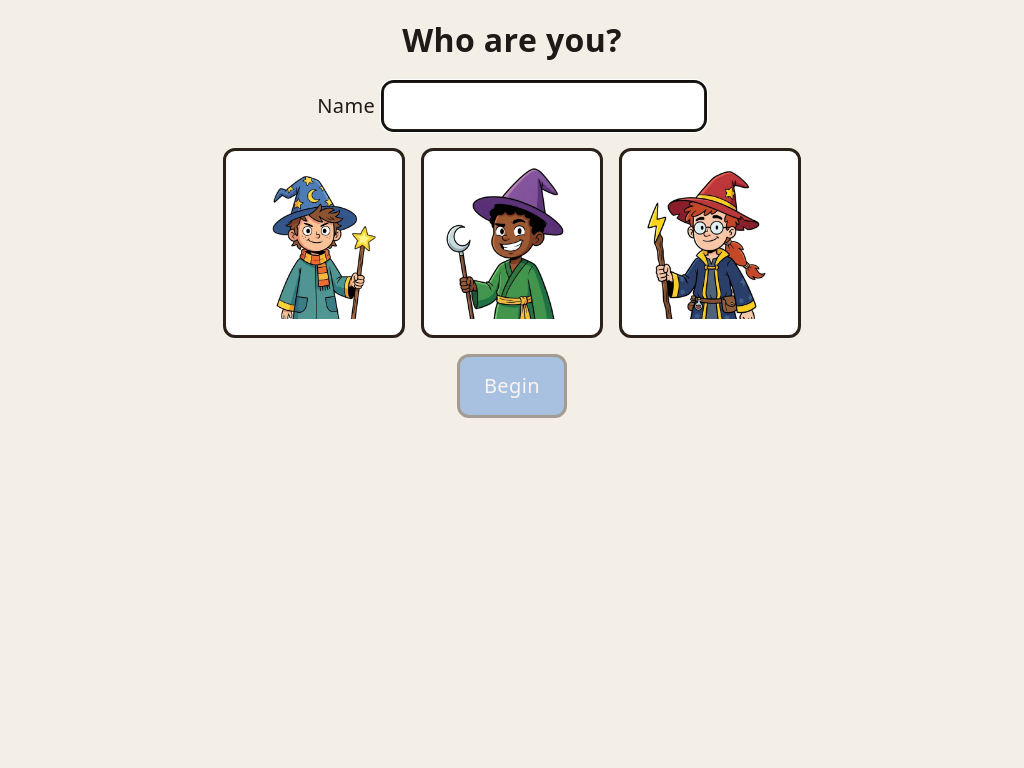
it: App › shows a quiet notice on the title when a write fails, without interrupting play (F5)
This screenshot has width=1024, height=768.
Check: the heading "Who are you?" is shown, box [402,16,622,64]
Type "Noah" into the field labelled "Name" at {"x": 544, "y": 106}, box [381,80,707,132]
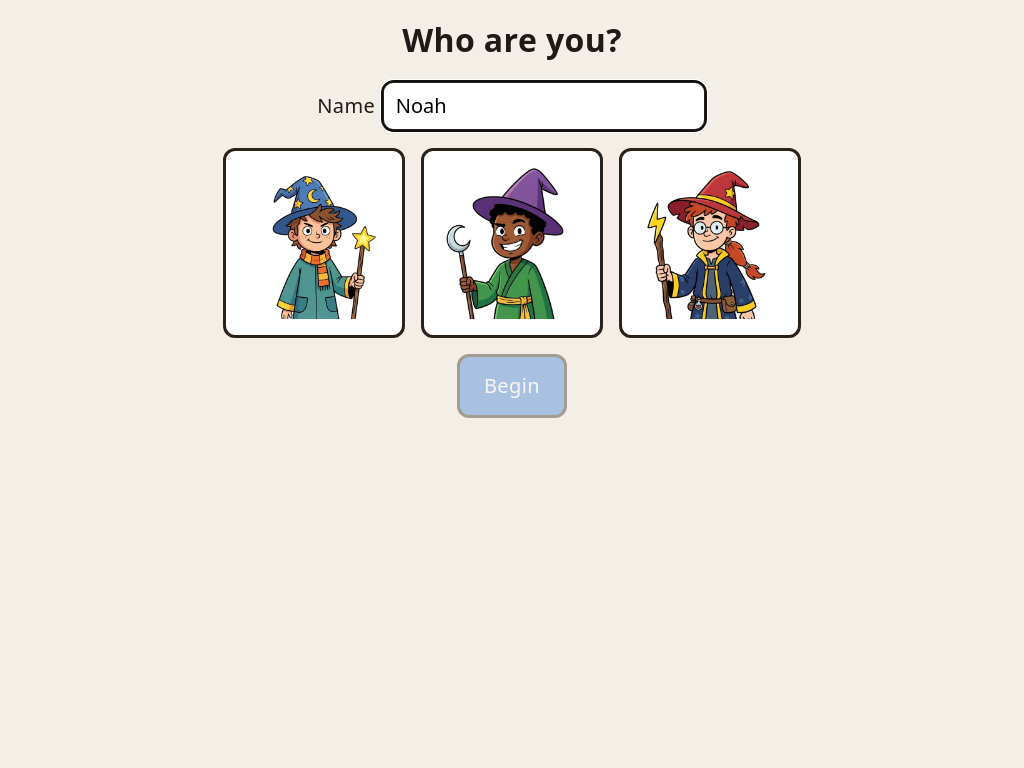
Click the radio button named "character-02" at {"x": 512, "y": 243}, box [421,148,603,338]
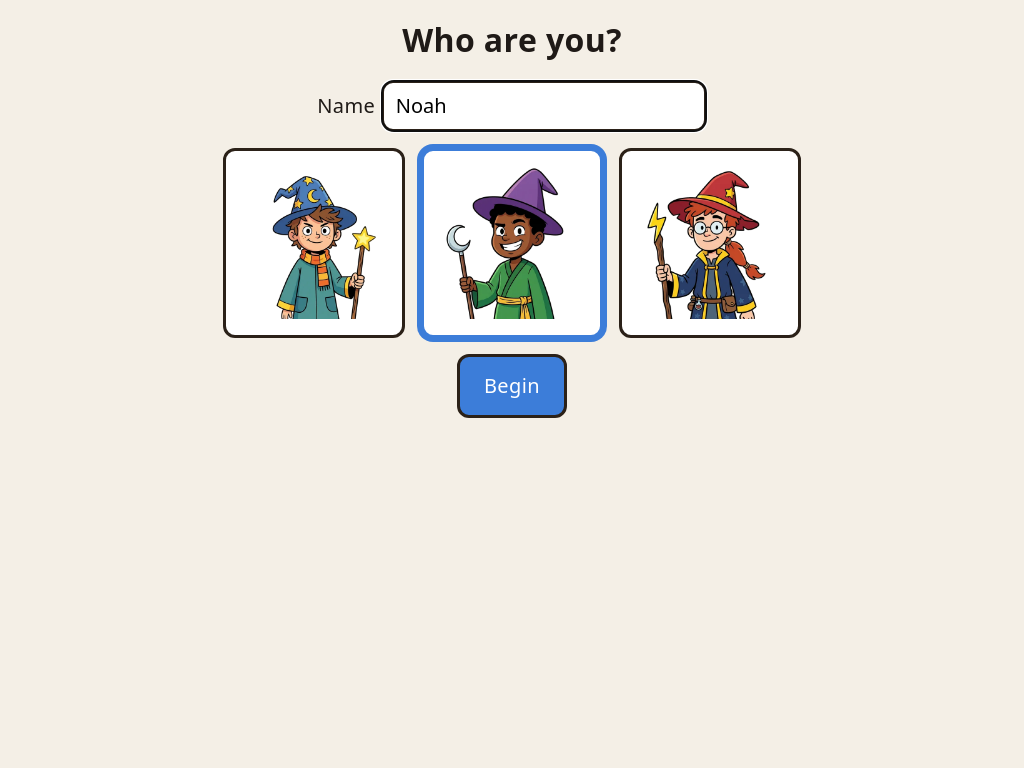
Click the button "Begin" at {"x": 512, "y": 386}, box [457,354,567,418]
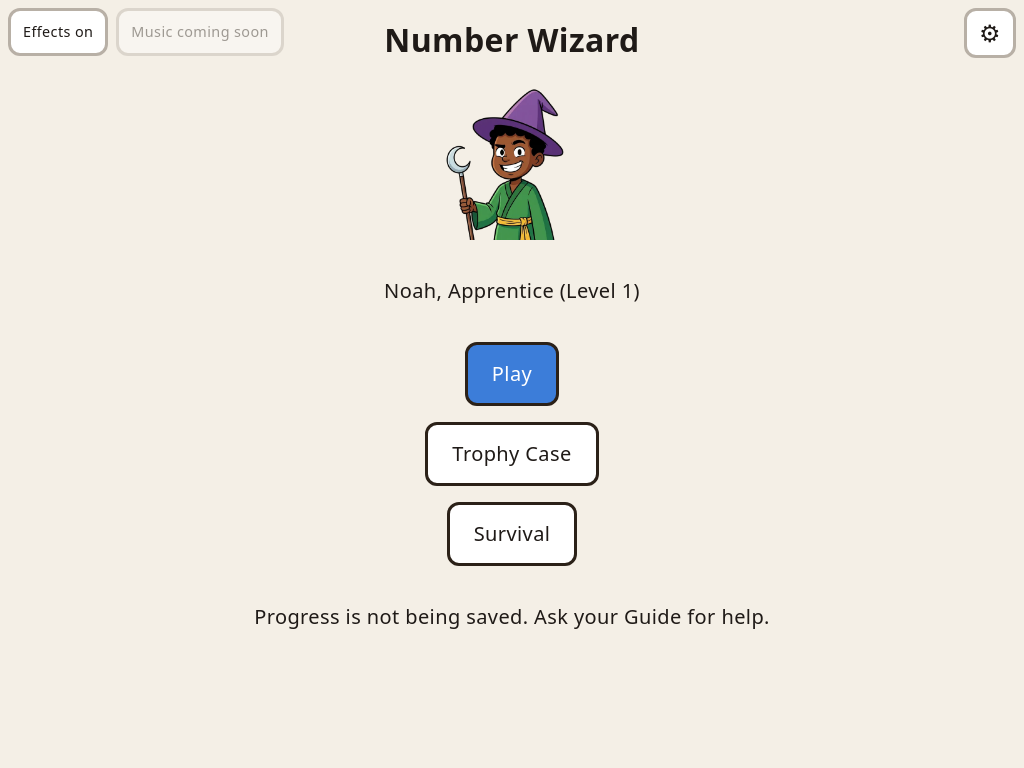
Check: the text "Progress is not being saved. Ask your Guide for help." is shown, box [254,602,770,632]
